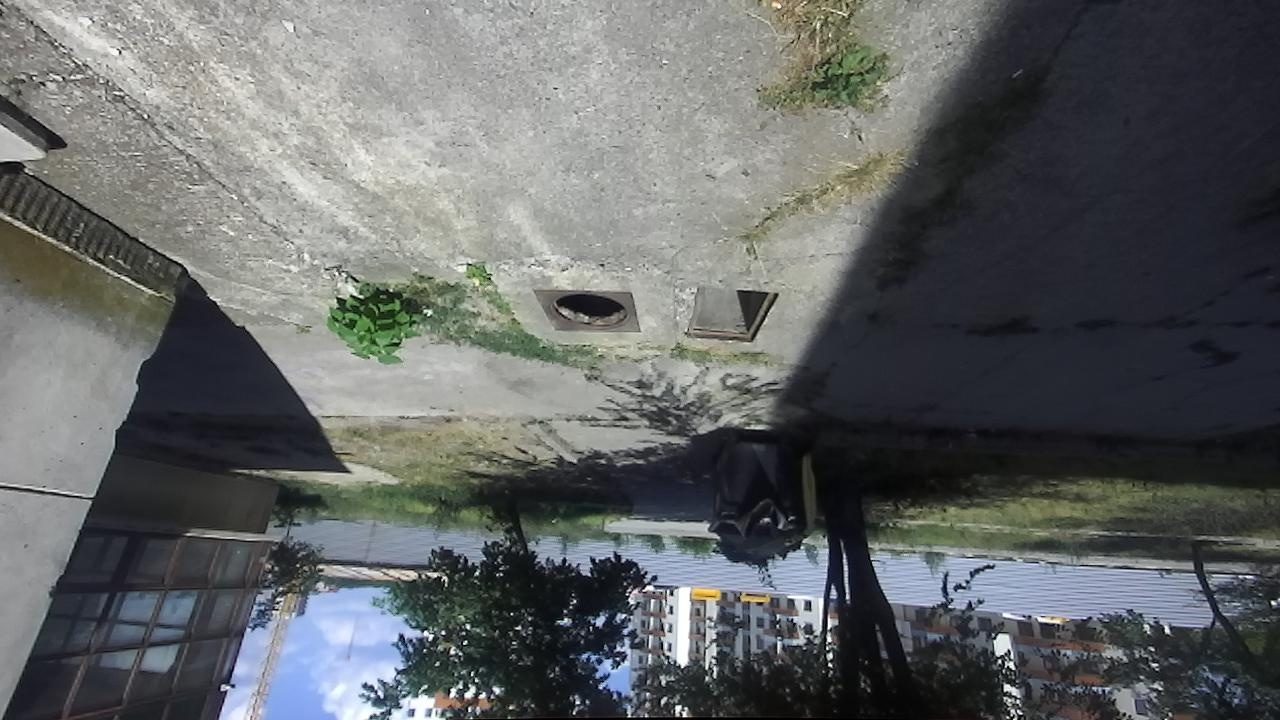drain: (684, 284, 781, 346), (548, 290, 629, 332)
